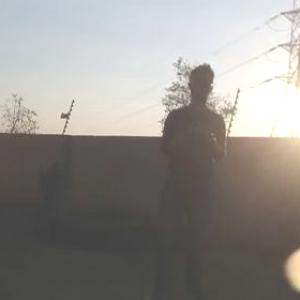follow: (138, 60, 228, 296)
